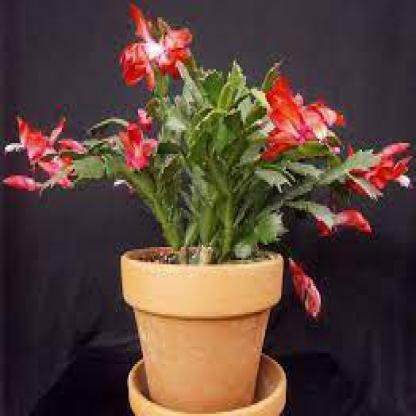Aglonema: (9, 34, 267, 306)
